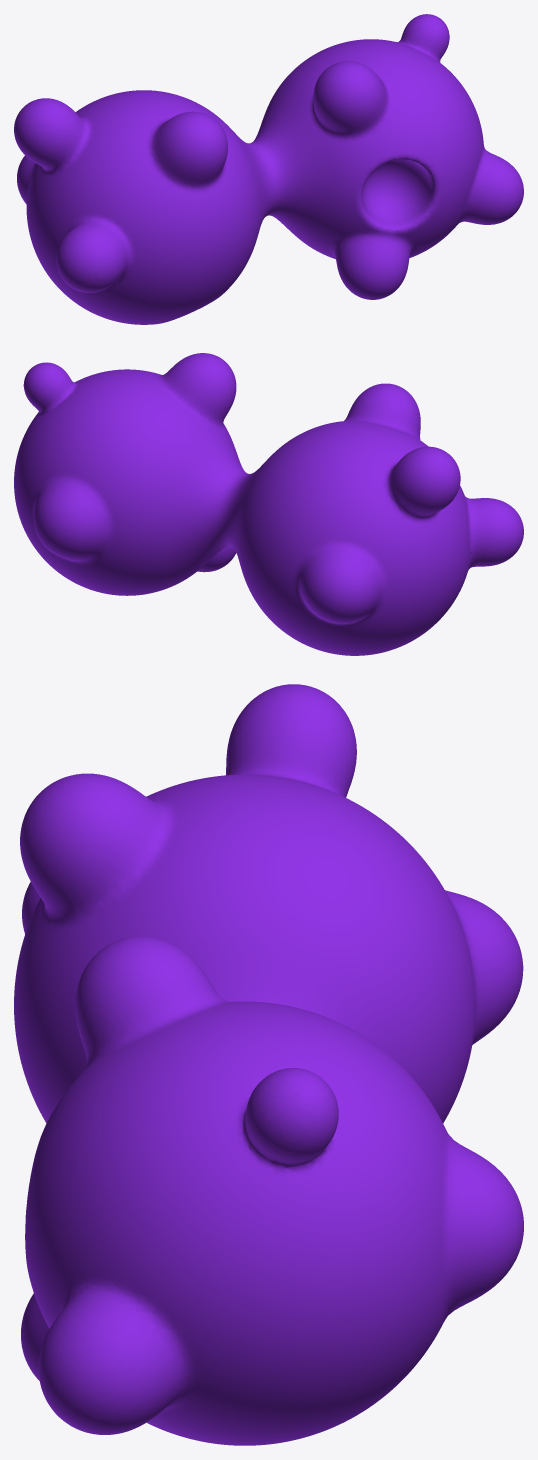
The model's file is VIrus01.fbx.
The picture shows the model from 3 angles, top to bottom: view 1: azimuth 30°, elevation 25°; view 2: azimuth 150°, elevation 25°; view 3: azimuth 270°, elevation 25°; orthographic projection. The views are drawn at different scales.
Parts seen in each view (by area): view 1: Mball.014; view 2: Mball.014; view 3: Mball.014.
Boxes of the visible parts, bbox=[...] form: Mball.014: bbox=[14, 14, 523, 324]; Mball.014: bbox=[14, 353, 523, 655]; Mball.014: bbox=[14, 684, 523, 1445].
Size of the model in its own units: 47.33 by 22.04 by 22.93.
